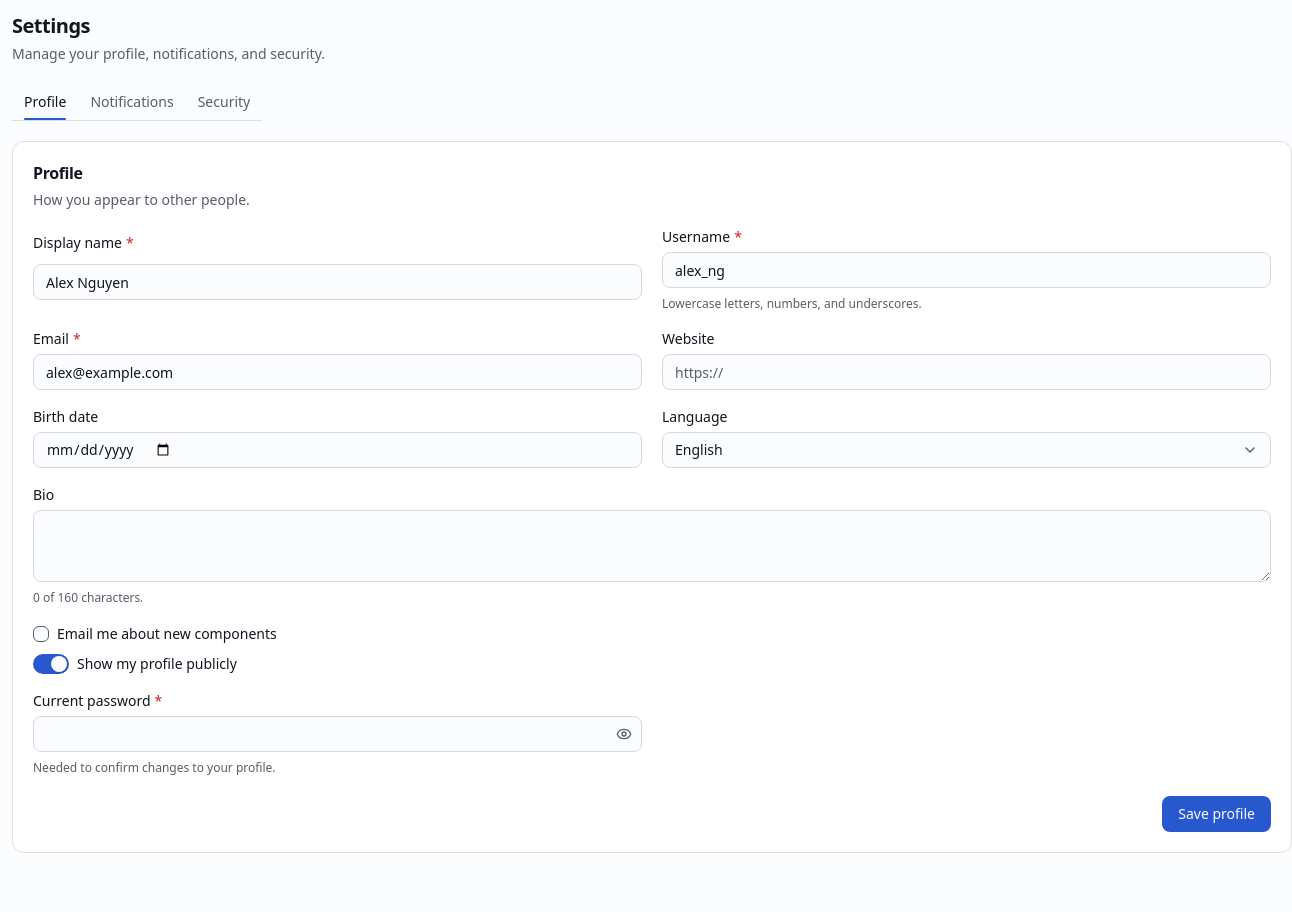
Scenario: UserProfileSettings › security › submits the three passwords, announces success, and clears the form
Click the tab "Security": (224, 102) x1=186 y1=84 x2=262 y2=120
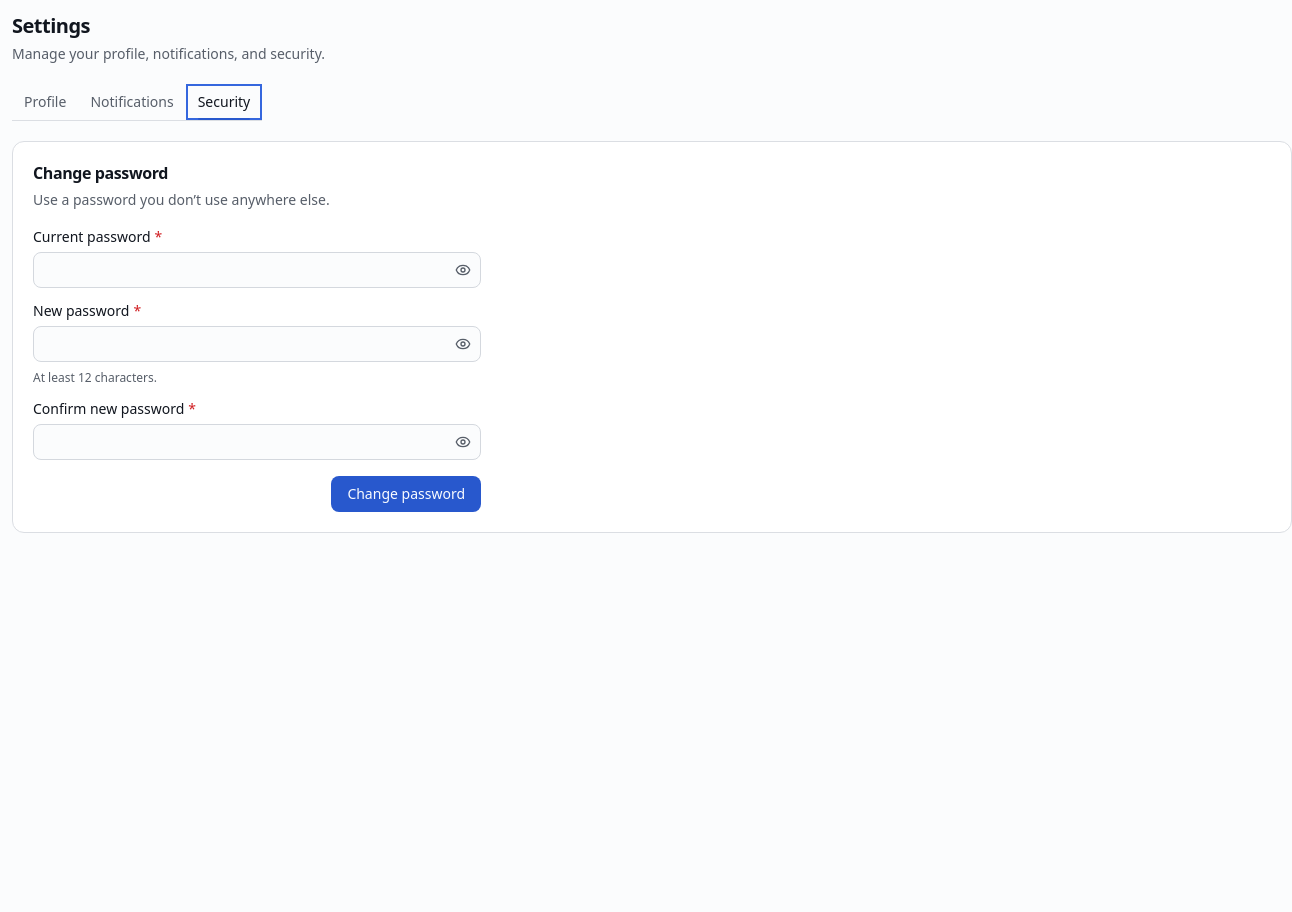
In the password field labelled "Current password *": (257, 270) x1=33 y1=252 x2=481 y2=288, type "old password"
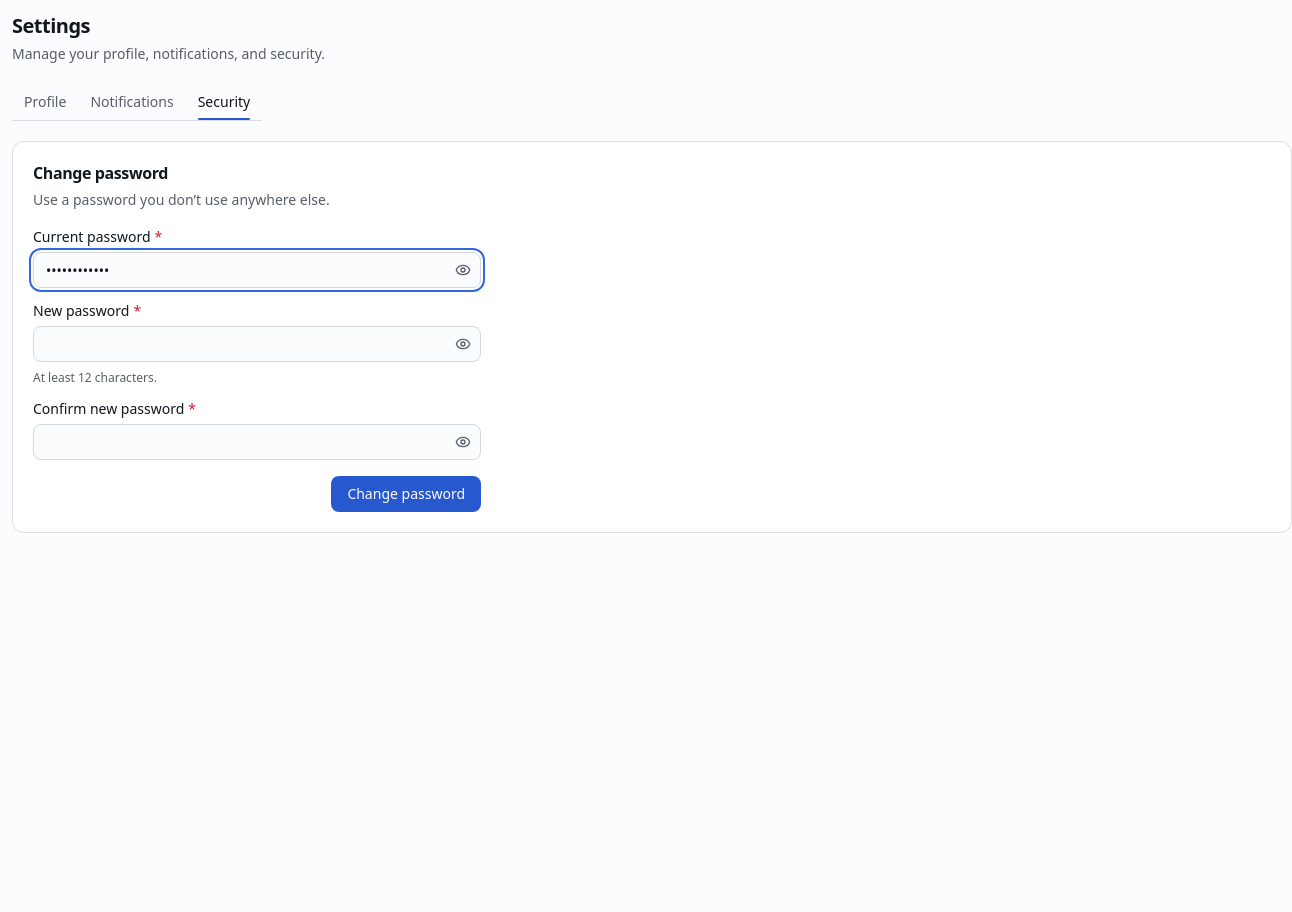
In the password field labelled "New password *": (257, 344) x1=33 y1=326 x2=481 y2=362, type "a much longer secret"
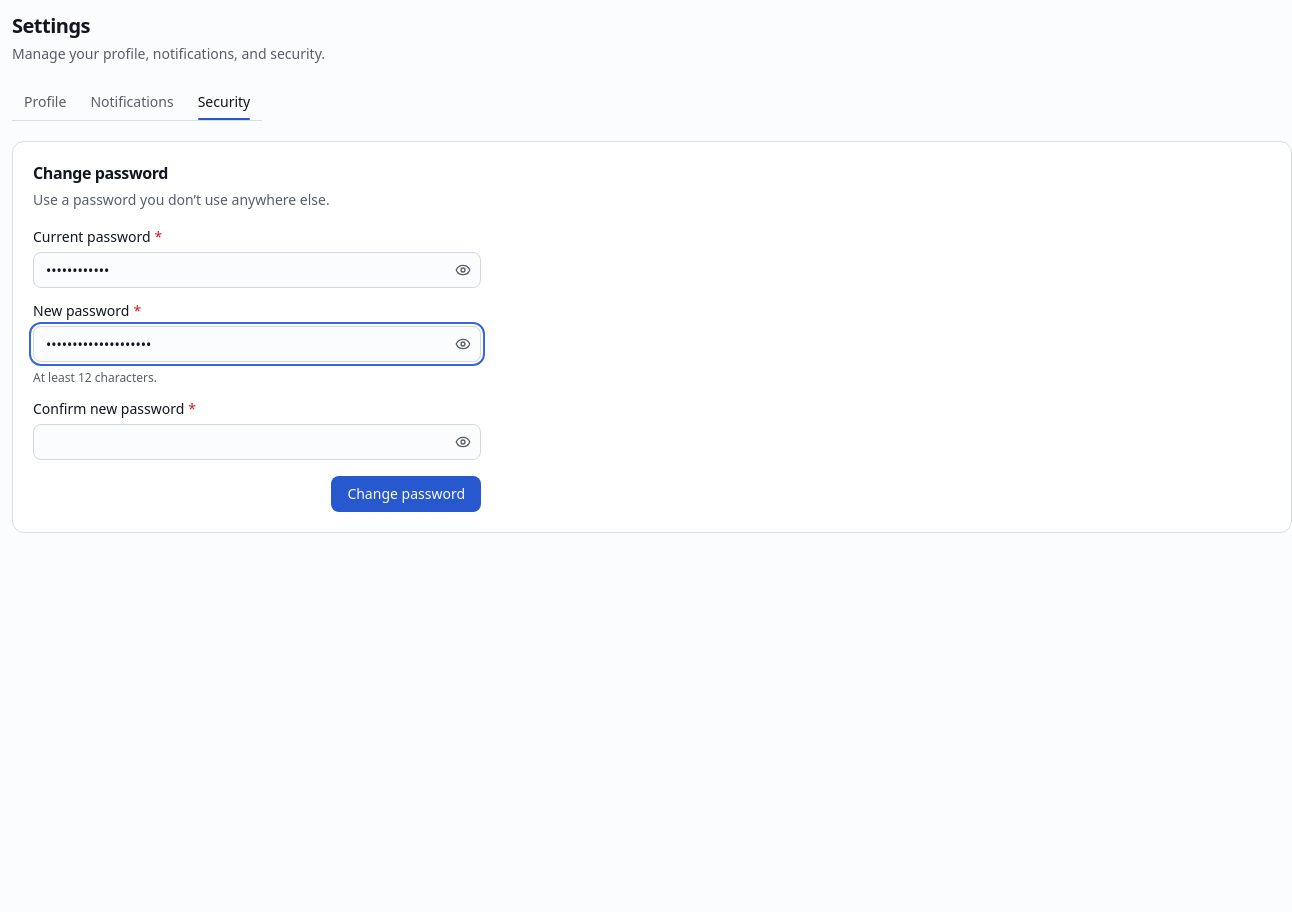
In the password field labelled "Confirm new password *": (257, 442) x1=33 y1=424 x2=481 y2=460, type "a much longer secret"
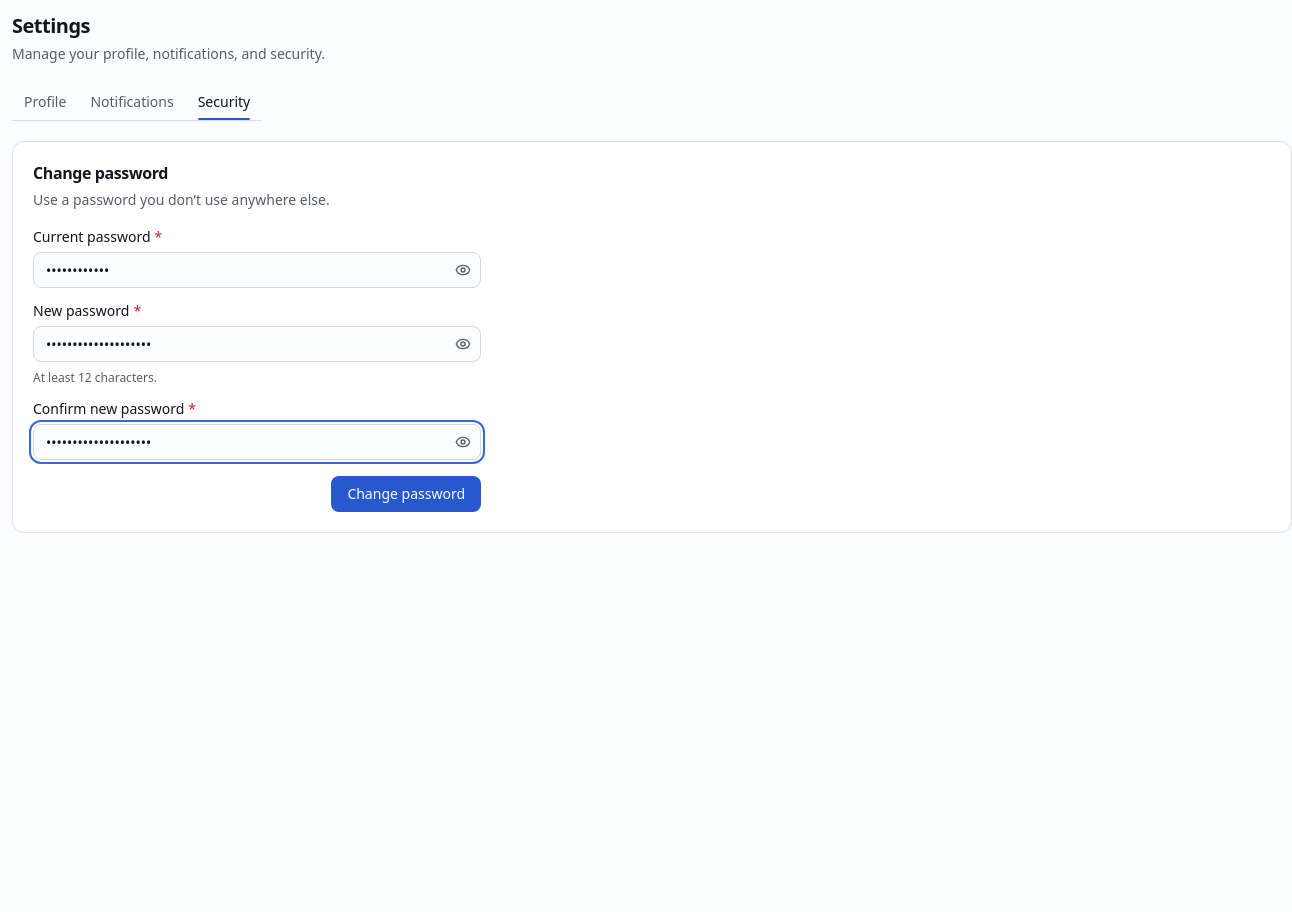
Click the button "Change password": (406, 494) x1=331 y1=476 x2=481 y2=512
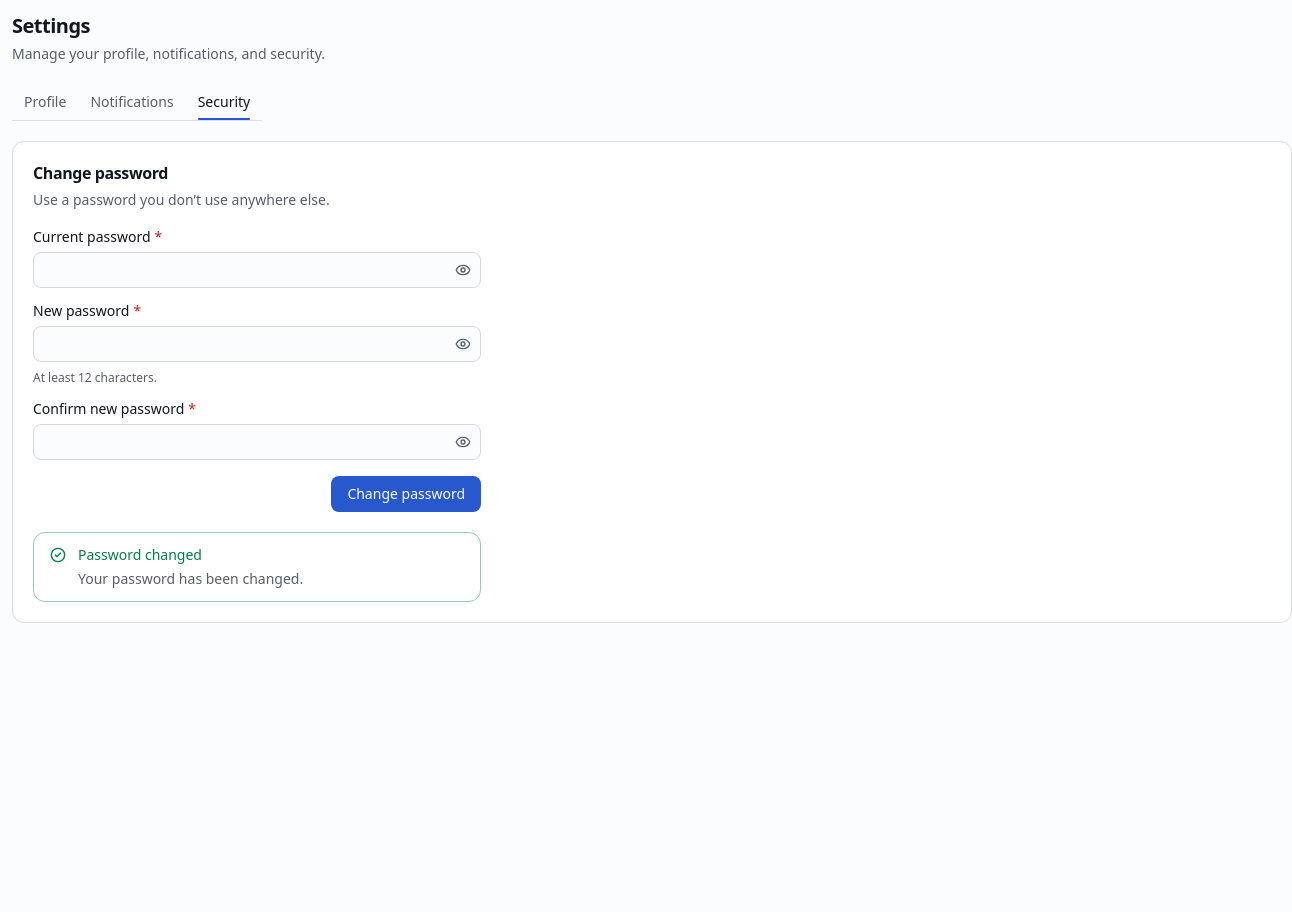
Check: the message shows "Your password has been changed.", box x1=78 y1=569 x2=303 y2=588
Check: the password field labelled "Current password *" is empty, box x1=33 y1=252 x2=481 y2=288
Check: the password field labelled "New password *" is empty, box x1=33 y1=326 x2=481 y2=362
